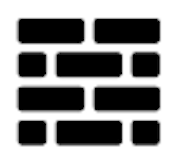firewall: (10, 12, 169, 153)
